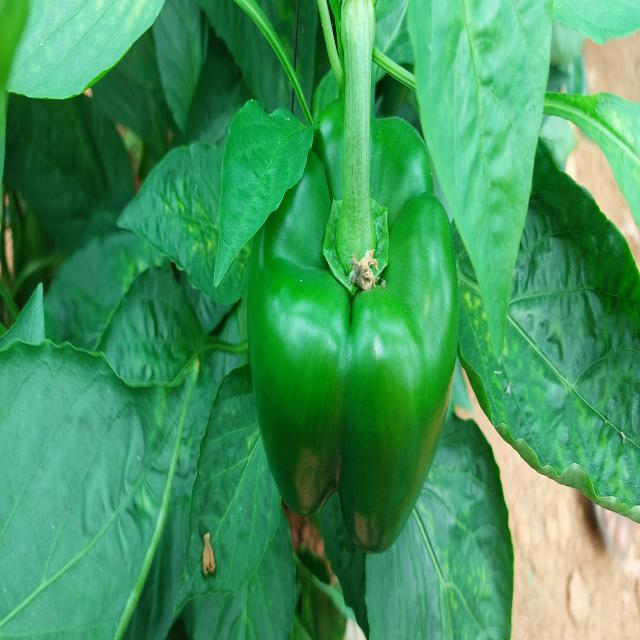Green--Not-ready-to-harvest: (249, 98, 466, 568)
